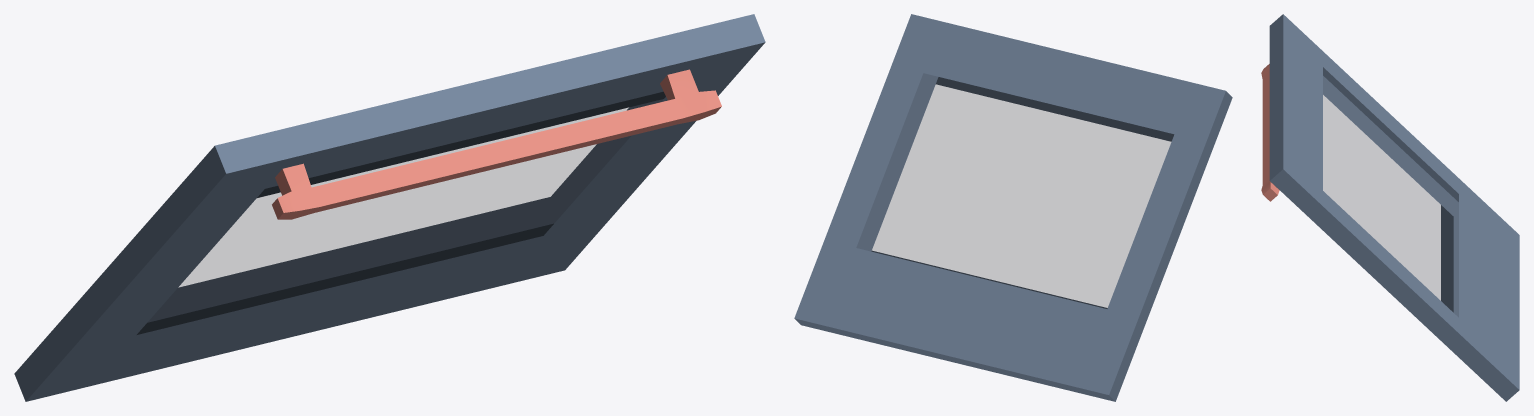
The model's file is ovendoor_open.fbx.
3 views of the same model, side by side, from view 1: azimuth 30°, elevation 25°; view 2: azimuth 150°, elevation 25°; view 3: azimuth 270°, elevation 25° (orthographic). The views are drawn at different scales.
Parts seen in each view (by area): view 1: pCube2; view 2: pCube2; view 3: pCube2.
Part boxes in pixels (<box>): pCube2: <box>14,14,765,401</box>; pCube2: <box>794,14,1232,401</box>; pCube2: <box>1261,14,1519,401</box>.
Size of the model in its own units: 5.79 by 4.05 by 4.07.
